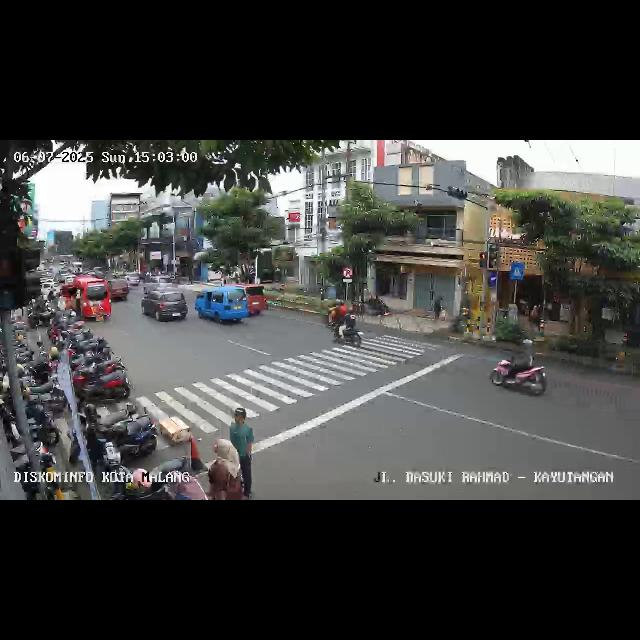car: (59, 277, 111, 323), (196, 284, 250, 328), (141, 288, 189, 324), (228, 283, 272, 319), (124, 272, 140, 286)
motorcycle: (488, 350, 550, 400), (336, 308, 362, 348)
person: (228, 409, 256, 497), (209, 440, 243, 500)
